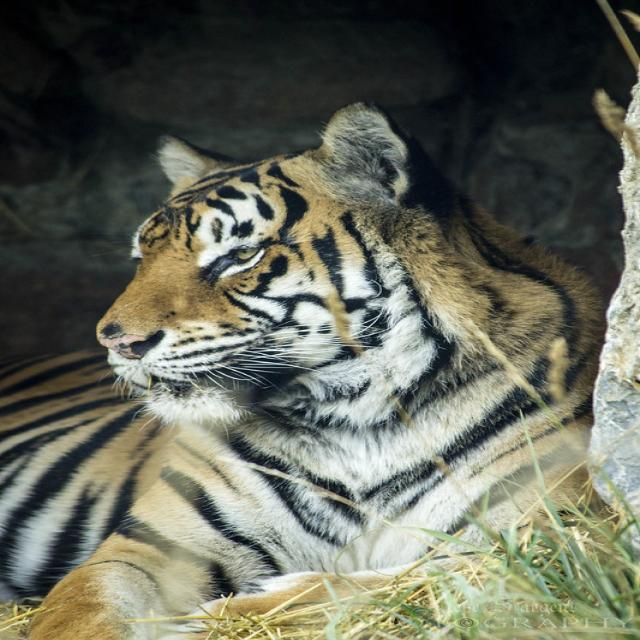Tiger: (11, 96, 575, 639)
